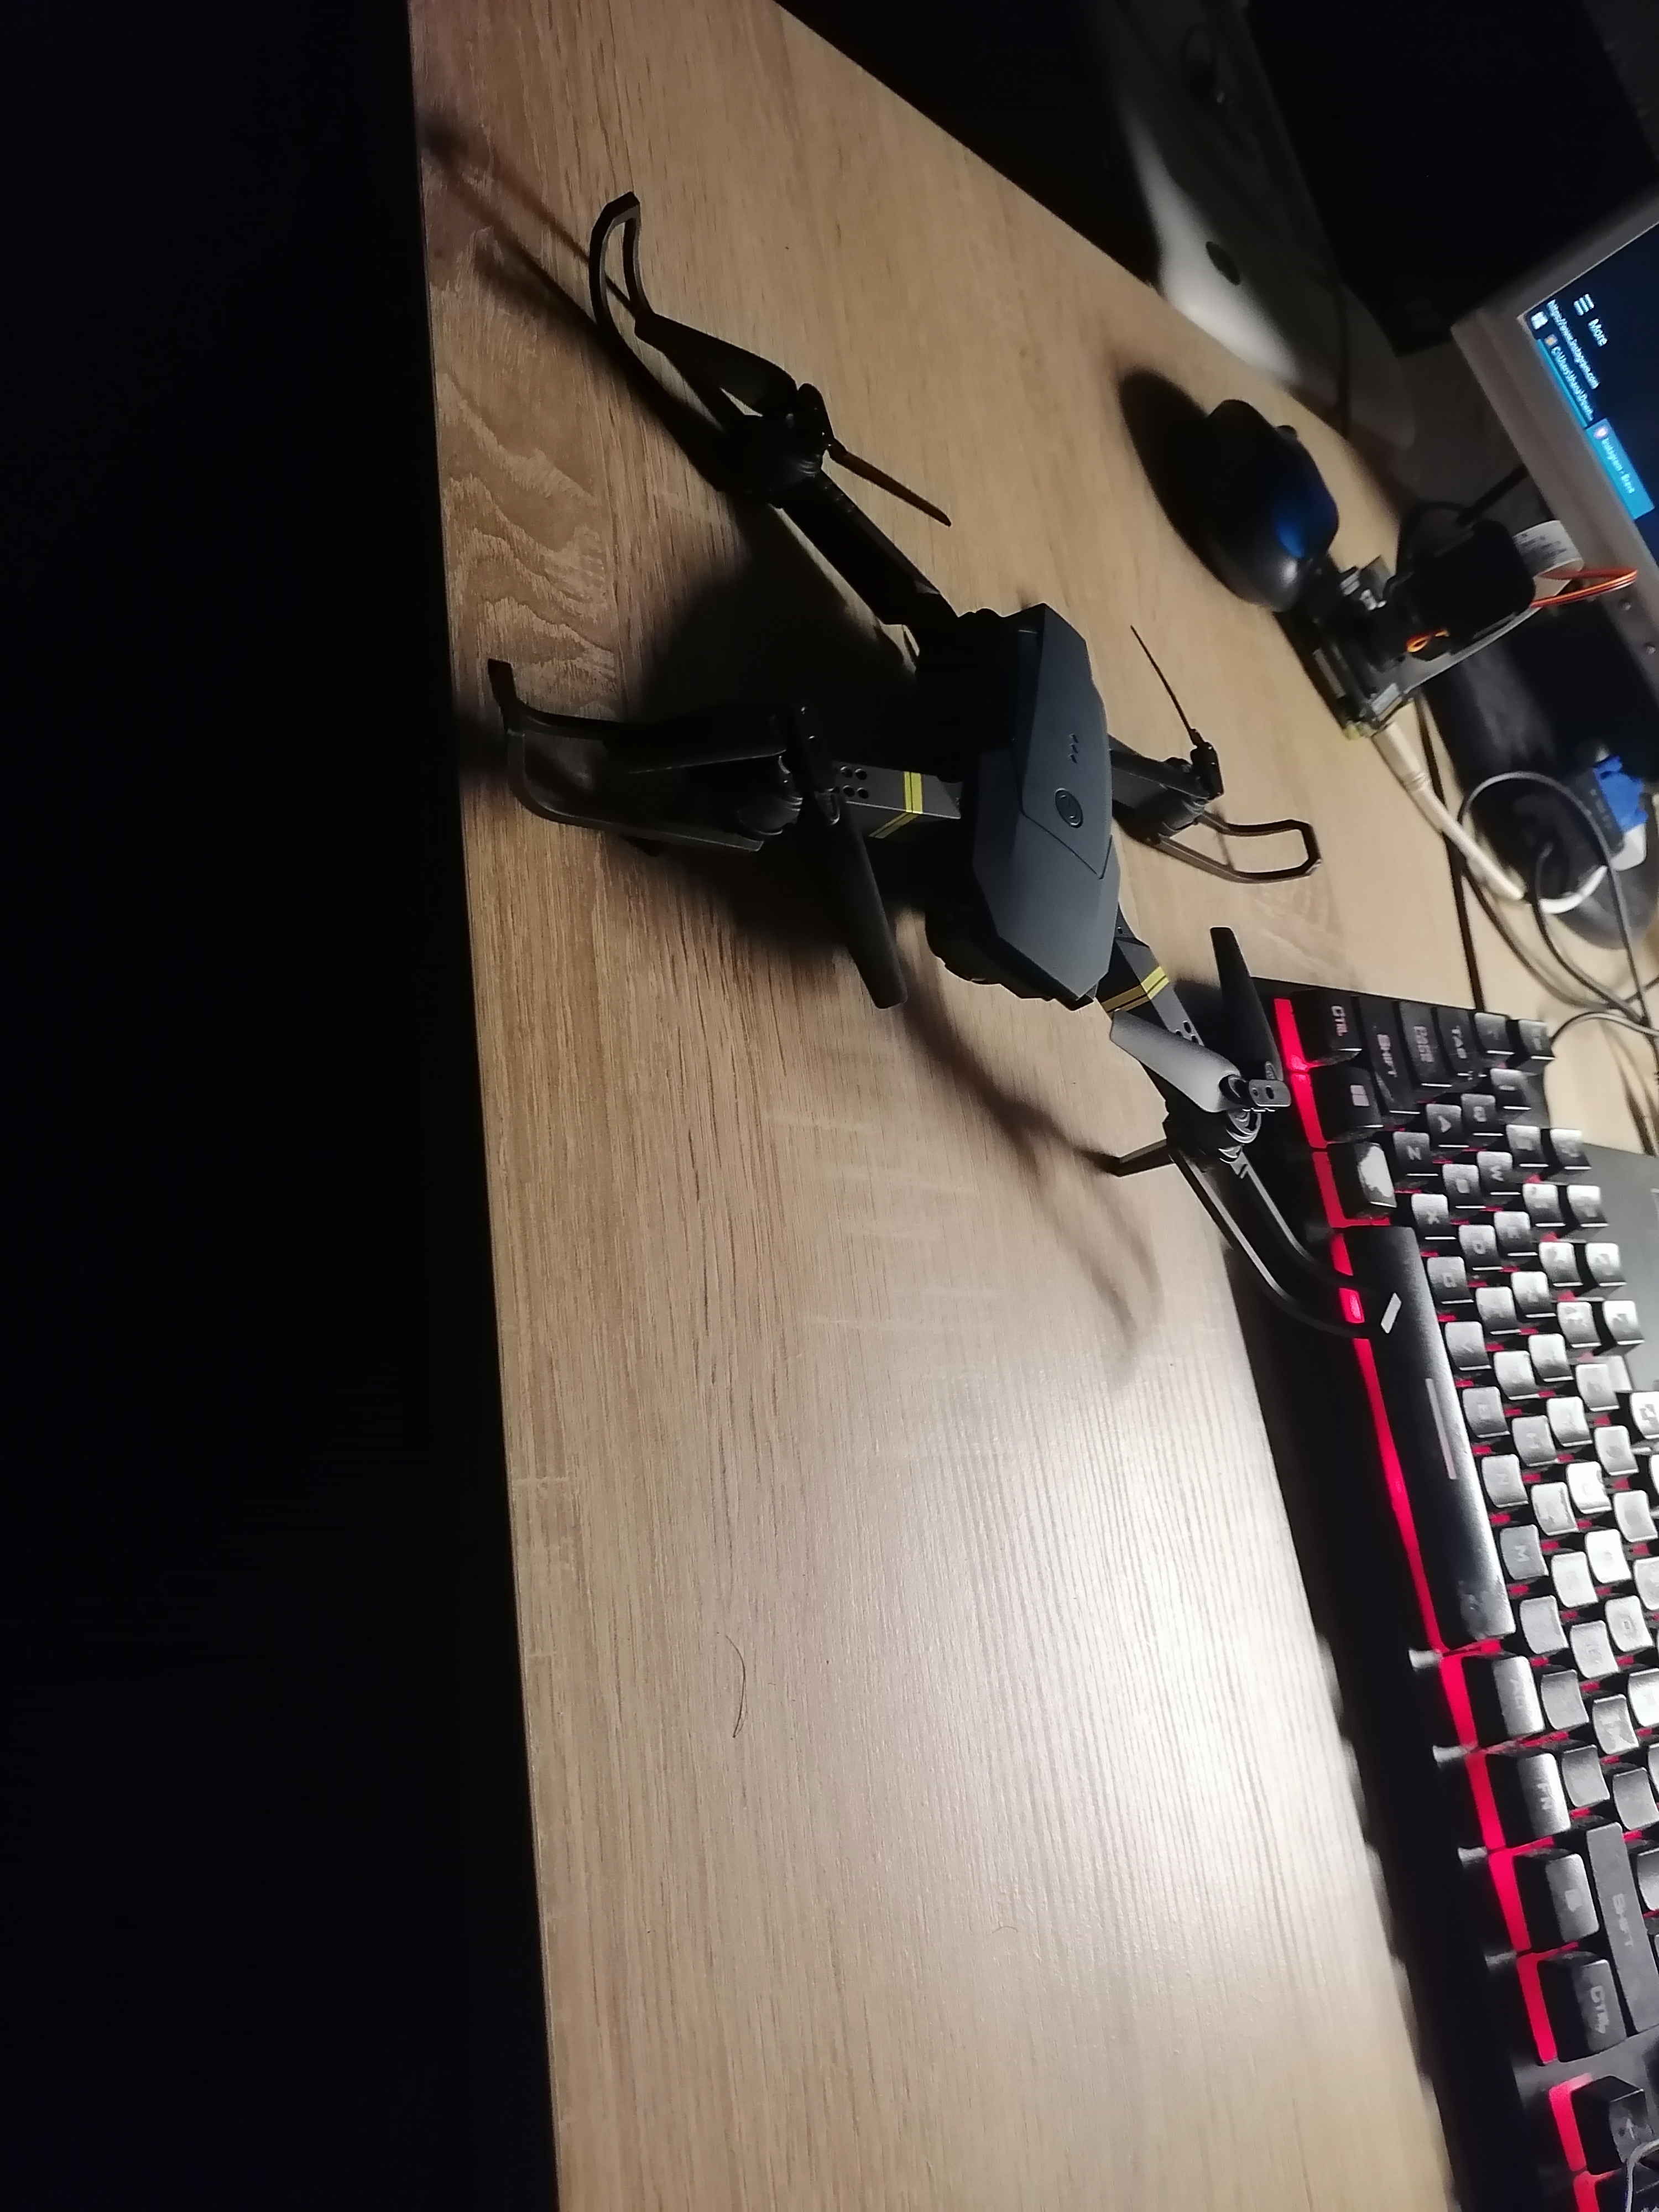drone: (437, 155, 1345, 1268)
